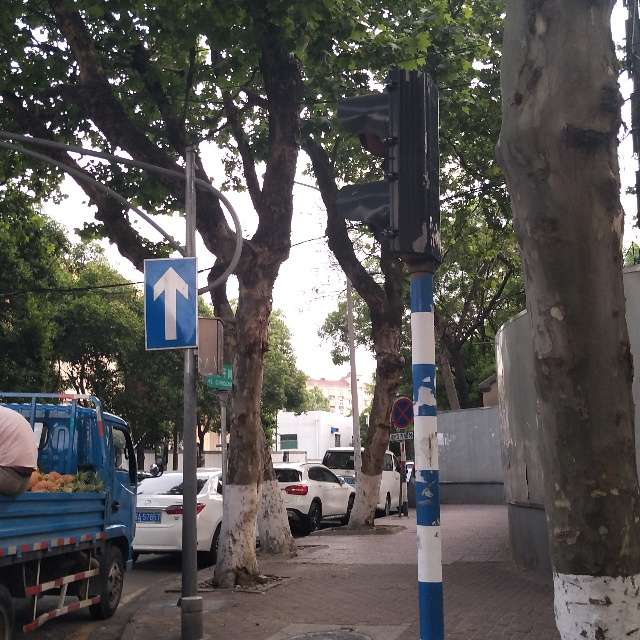straight: (144, 258, 194, 356)
